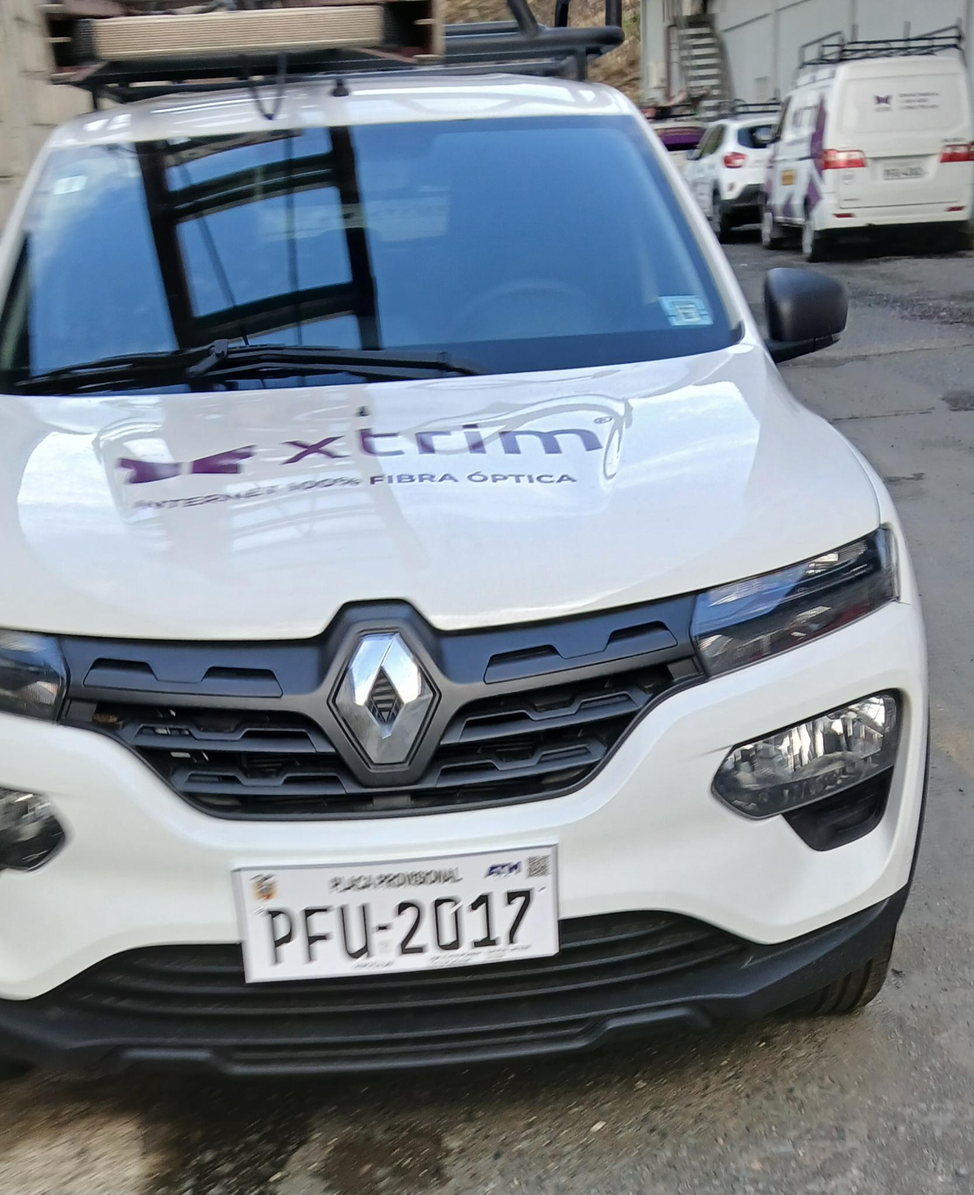license_plate: (231, 843, 560, 985), (877, 161, 927, 180)
